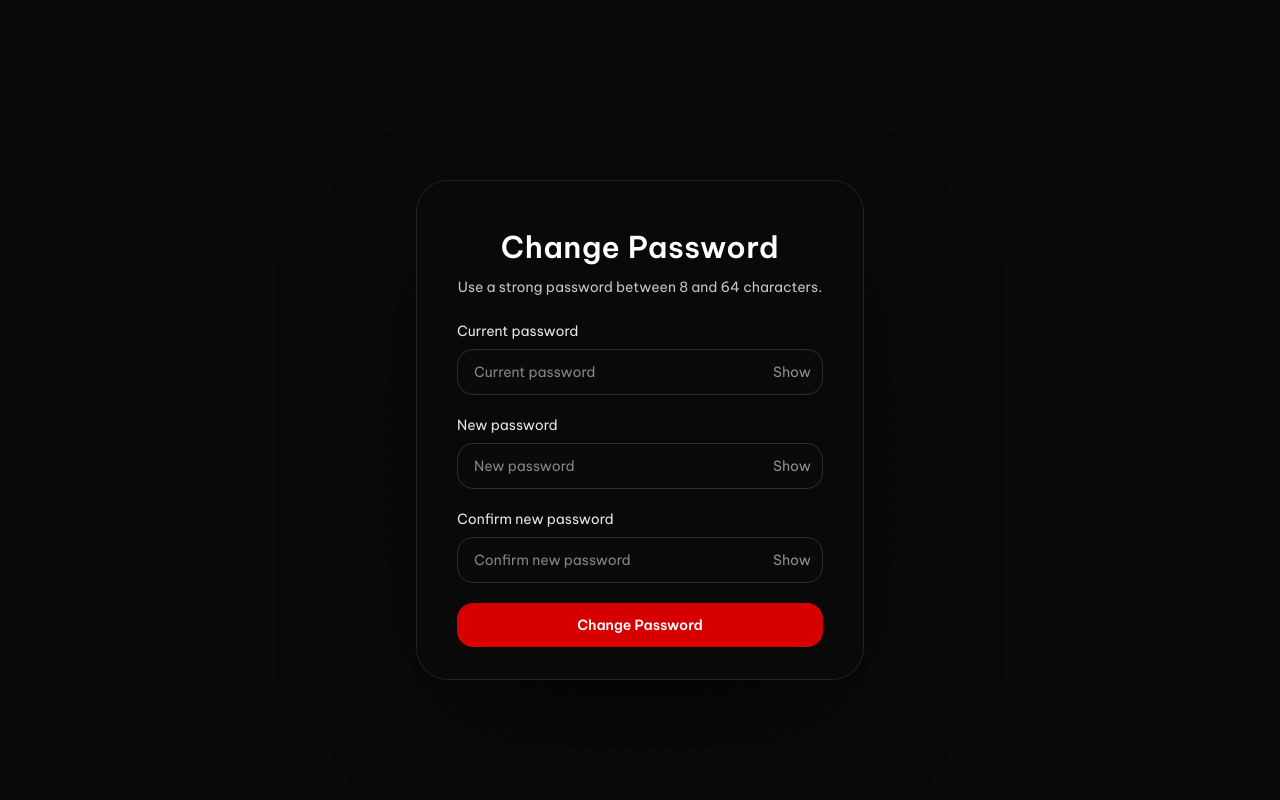
Scenario: ChangePasswordPage › validates required fields without submitting
What coordinates should you click on to do the following:
click the button "Change Password"
I would click on:
 (640, 625)
Its box is x1=457 y1=603 x2=823 y2=647.
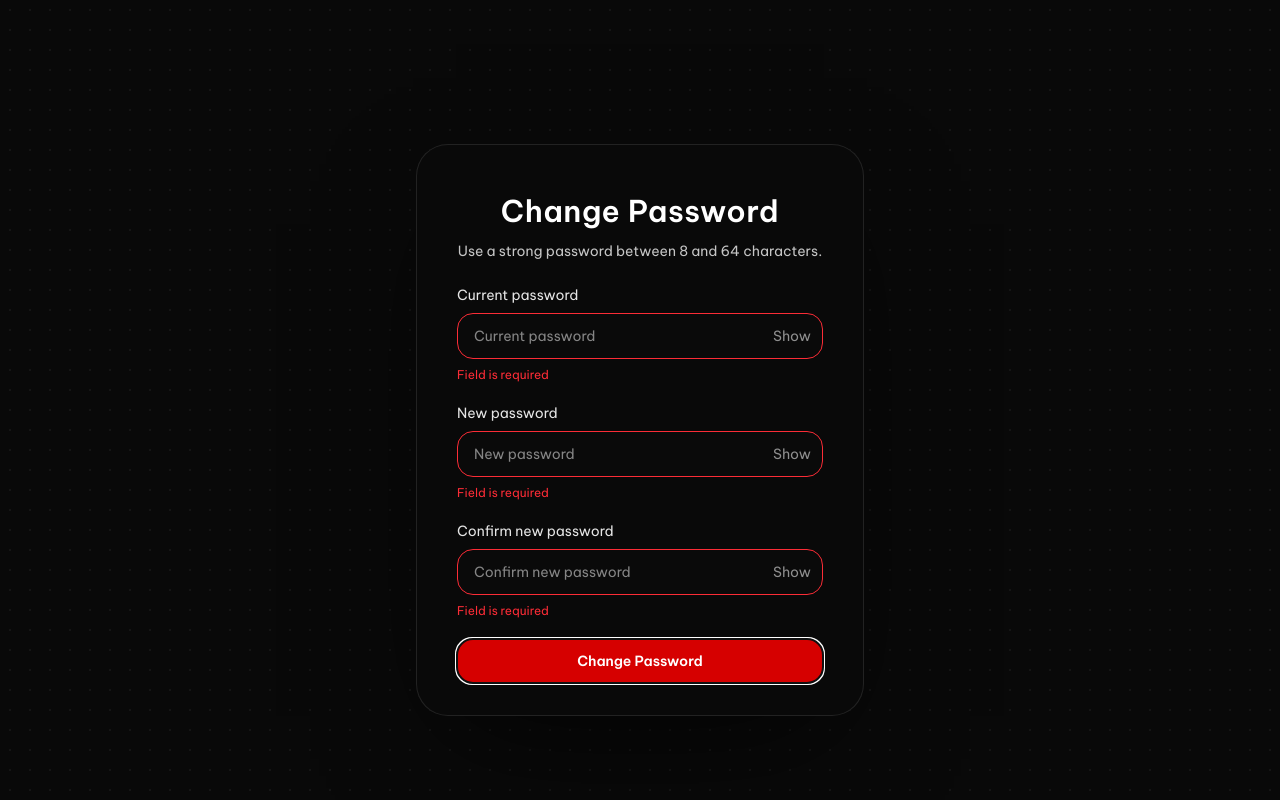
Expected: the button "Change Password" is enabled, x1=457 y1=639 x2=823 y2=683
Expected: the text "Field is required" is shown 3 times, x1=457 y1=367 x2=549 y2=382; x1=457 y1=485 x2=549 y2=500; x1=457 y1=603 x2=549 y2=618
